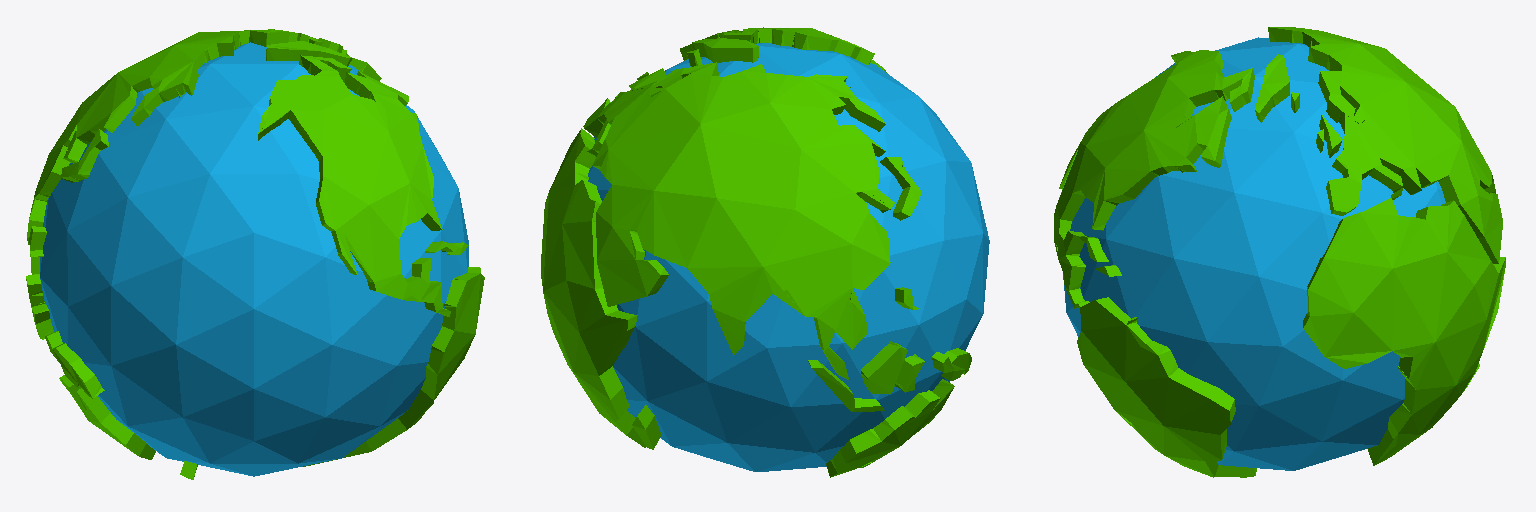
File: NOVELO_EARTH.obj
3 renders of one model, left to right at view 1: azimuth 30°, elevation 25°; view 2: azimuth 150°, elevation 25°; view 3: azimuth 270°, elevation 25°, orthographic.
Visible parts, largest first — view 1: Earth.1; view 2: Earth.1; view 3: Earth.1.
Part boxes in pixels (left/top/right/bottom): Earth.1: left=26, top=29, right=484, bottom=479; Earth.1: left=541, top=27, right=989, bottom=477; Earth.1: left=1054, top=27, right=1505, bottom=477.
Bounding box in the file's own units: 666 × 673 × 667.